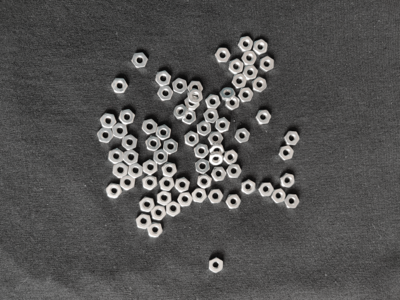nut: (112, 78, 129, 94), (119, 109, 136, 125), (100, 113, 117, 129), (123, 149, 139, 166), (238, 36, 254, 52), (238, 87, 254, 103), (278, 145, 294, 161), (112, 123, 128, 139), (142, 119, 158, 135), (146, 136, 162, 152), (120, 175, 136, 191), (106, 183, 122, 199), (175, 177, 191, 193), (136, 214, 152, 230), (253, 39, 268, 56), (97, 128, 114, 143), (143, 159, 158, 176), (148, 222, 163, 239), (209, 257, 224, 274), (215, 48, 231, 63), (252, 77, 267, 93), (132, 53, 148, 68), (173, 78, 188, 94), (158, 86, 174, 101), (188, 81, 204, 96), (185, 96, 201, 111), (174, 104, 189, 120), (204, 109, 220, 124), (235, 128, 250, 144), (284, 131, 300, 146), (197, 121, 212, 137), (185, 131, 200, 147), (122, 135, 138, 150), (109, 148, 124, 164), (156, 125, 171, 141), (208, 151, 224, 166), (195, 159, 210, 175), (211, 167, 227, 182), (208, 189, 224, 204), (113, 163, 129, 178), (143, 175, 158, 191), (140, 197, 155, 213), (166, 201, 181, 217), (151, 206, 167, 221), (242, 51, 257, 66), (259, 57, 274, 72), (229, 59, 244, 74), (243, 65, 258, 80), (232, 74, 247, 89), (156, 71, 171, 86), (182, 110, 197, 125), (225, 96, 240, 111), (206, 94, 221, 109), (256, 110, 271, 125), (280, 173, 295, 188), (215, 118, 230, 133), (224, 150, 239, 165), (227, 164, 242, 179), (271, 189, 286, 204), (226, 194, 241, 209), (197, 174, 212, 189), (192, 188, 207, 203), (162, 162, 177, 177), (160, 177, 175, 192), (178, 192, 193, 207), (189, 88, 203, 104), (220, 87, 236, 101), (164, 139, 178, 155), (208, 132, 224, 146), (154, 149, 168, 165), (129, 163, 143, 179), (285, 194, 300, 208), (259, 183, 274, 197), (242, 180, 256, 195), (158, 191, 172, 206), (195, 144, 209, 158), (210, 143, 225, 156)
